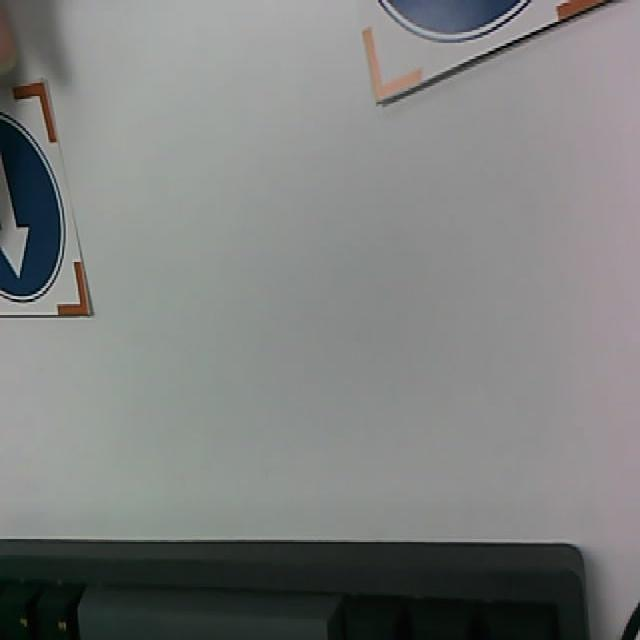straight: (0, 112, 66, 302)
